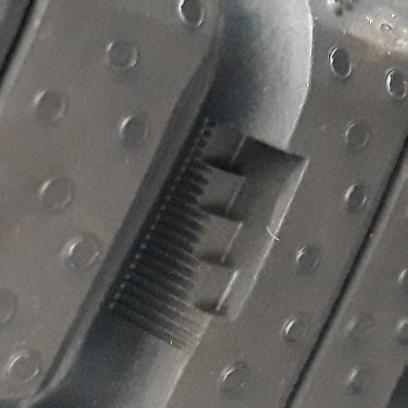temoin:100: (104, 114, 314, 359)
